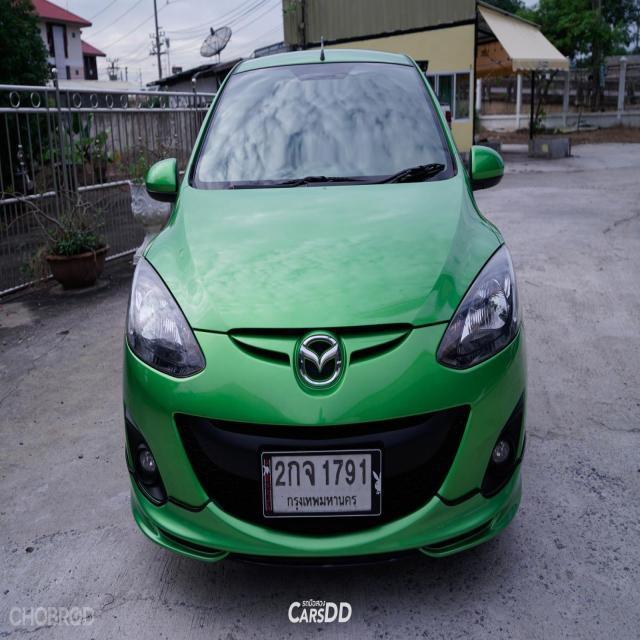license_plate: (261, 450, 383, 519)
